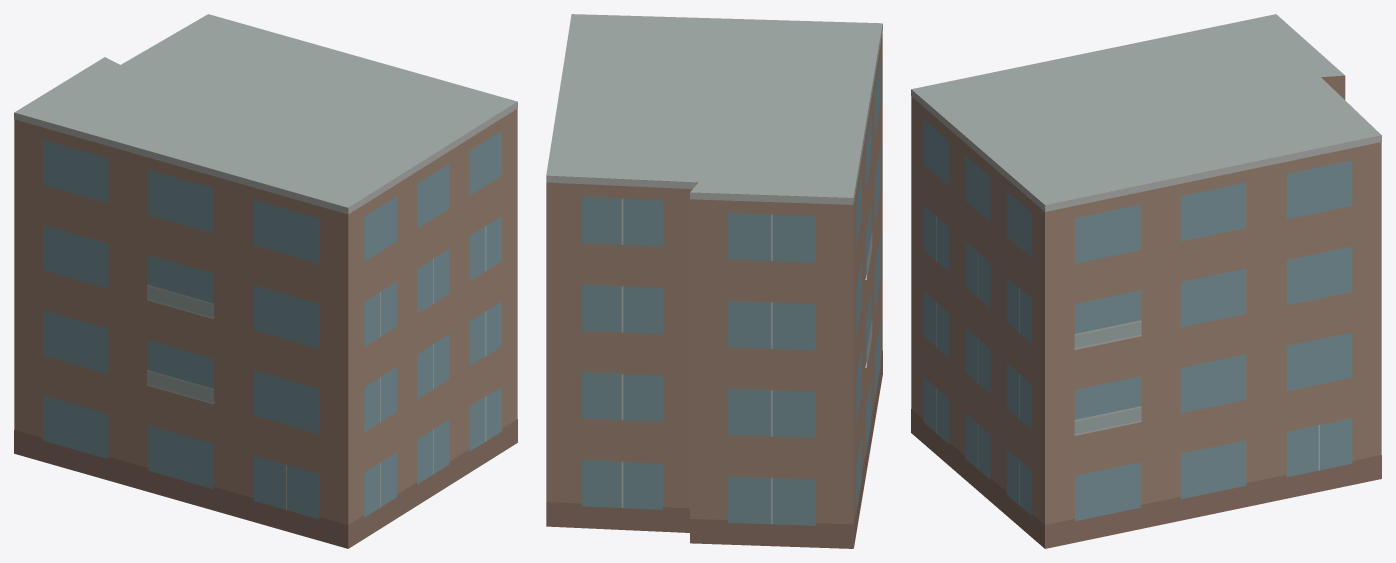
Rendered from survey-upis-32984291.glb.
The picture shows the model from 3 angles, left to right: view 1: azimuth 30°, elevation 25°; view 2: azimuth 150°, elevation 25°; view 3: azimuth 270°, elevation 25°; orthographic projection. The views are drawn at different scales.
Visible parts, largest first — view 1: survey-upis-32984291.tmp; view 2: survey-upis-32984291.tmp; view 3: survey-upis-32984291.tmp.
Boxes of the visible parts, box(x1,y1,x2,y2) form: survey-upis-32984291.tmp: box(14, 14, 517, 548); survey-upis-32984291.tmp: box(546, 14, 882, 548); survey-upis-32984291.tmp: box(911, 14, 1381, 548).
Size of the model in its own units: 14.81 by 12.4 by 15.4.
